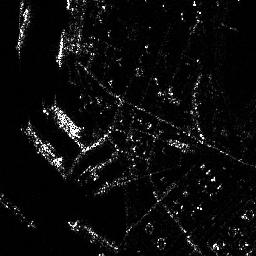ship: (19, 123, 64, 171), (47, 104, 83, 139), (15, 5, 31, 52), (56, 27, 68, 67)
